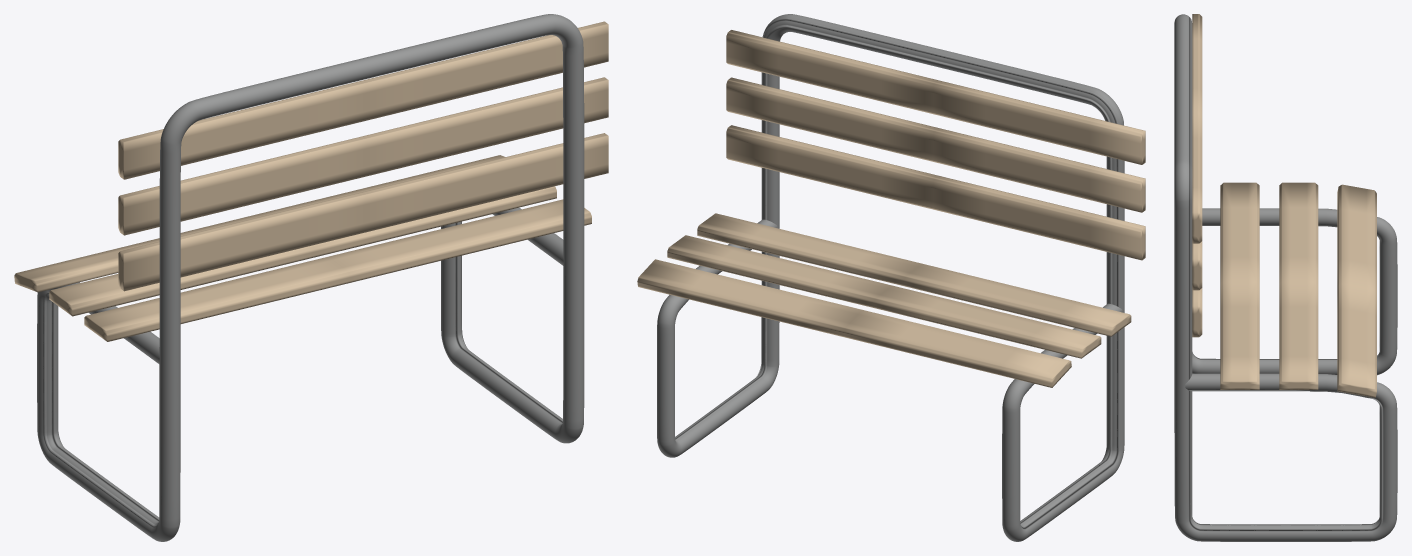
Rendered from bench.fbx.
The picture shows the model from 3 angles, left to right: view 1: azimuth 30°, elevation 25°; view 2: azimuth 150°, elevation 25°; view 3: azimuth 270°, elevation 25°; orthographic projection. The views are drawn at different scales.
Visible parts, largest first — view 1: Bench; view 2: Bench; view 3: Bench.
Boxes of the visible parts, x1,y1,x2,y2 form: Bench: (14, 14, 608, 541); Bench: (637, 14, 1145, 541); Bench: (1174, 14, 1397, 541).
Size of what is drawn, in the model's own units: 12 by 10.45 by 5.7.
